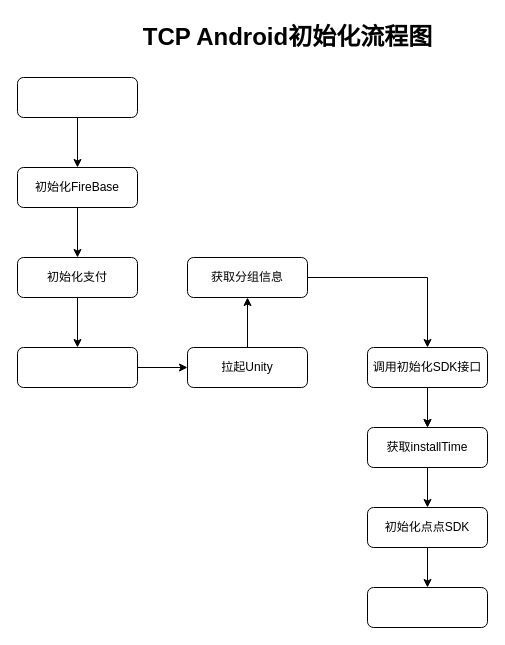
Some shapes in this 505 by 645 pixel diagram are drawn without their labels. Each missing label, with the centre of its shape:
初始化FB: (x=77, y=97)
初始化云派TGA: (x=77, y=367)
初始化广告SDK: (x=427, y=607)
